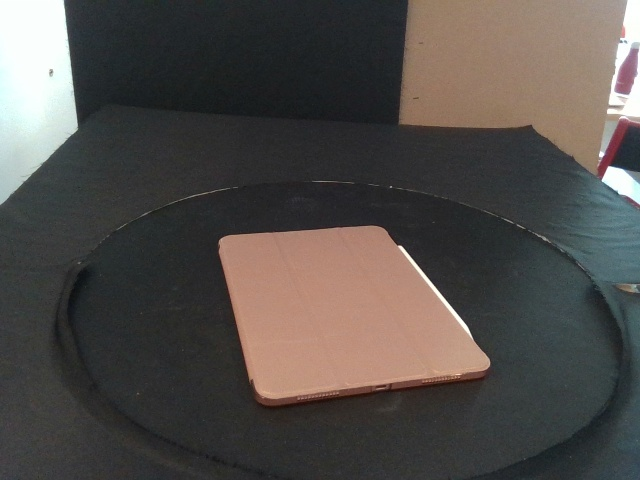laptop: (217, 225, 490, 407)
